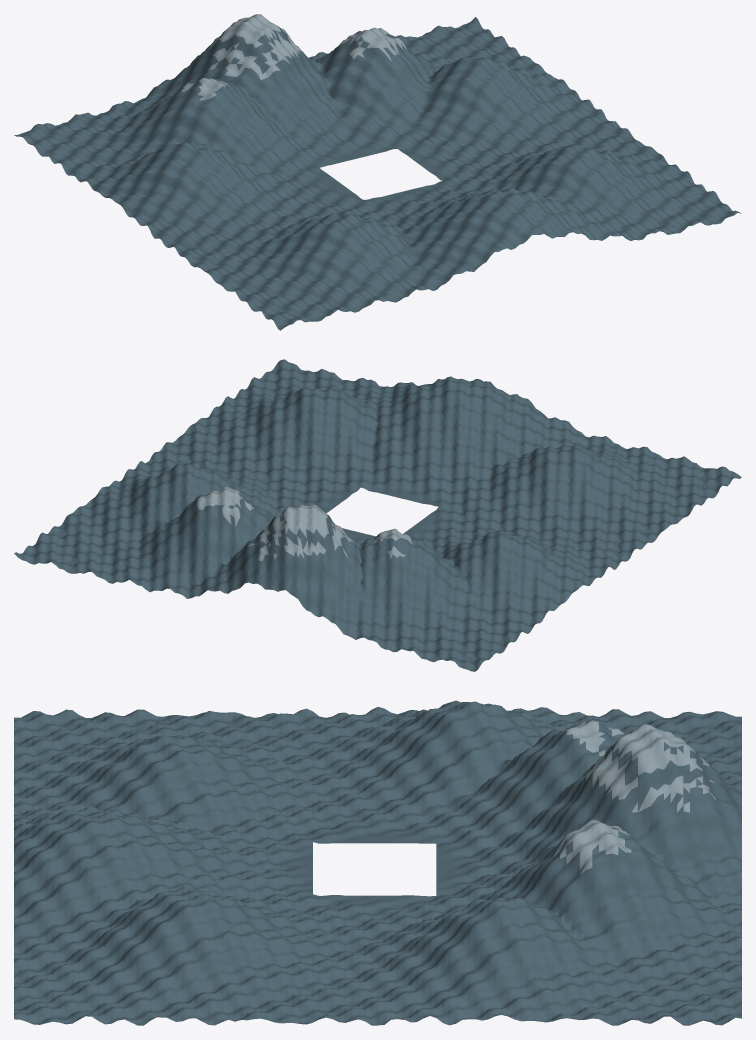
File: mountain_backdrop.glb
3 views of the same model, one above another, from view 1: azimuth 30°, elevation 25°; view 2: azimuth 150°, elevation 25°; view 3: azimuth 270°, elevation 25° (orthographic). The views are drawn at different scales.
Parts seen in each view (by area): view 1: mountain_backdrop; view 2: mountain_backdrop; view 3: mountain_backdrop.
Boxes of the visible parts, bbox=[...] form: mountain_backdrop: bbox=[14, 14, 741, 330]; mountain_backdrop: bbox=[14, 359, 741, 671]; mountain_backdrop: bbox=[14, 700, 741, 1025].
Bounding box in the file's own units: 560 × 106 × 560.
